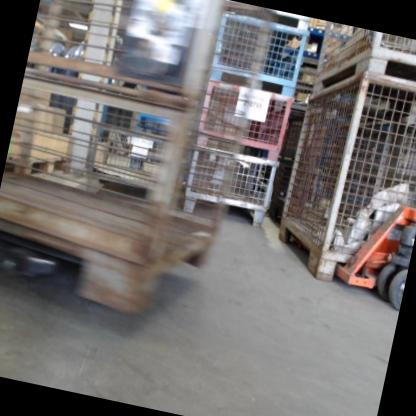pallet: (3, 143, 70, 187)
pallet_truck: (314, 183, 416, 314)
stillage: (269, 56, 416, 300), (300, 21, 416, 125), (172, 140, 284, 235), (203, 7, 312, 102), (186, 77, 298, 163), (96, 119, 193, 191)
